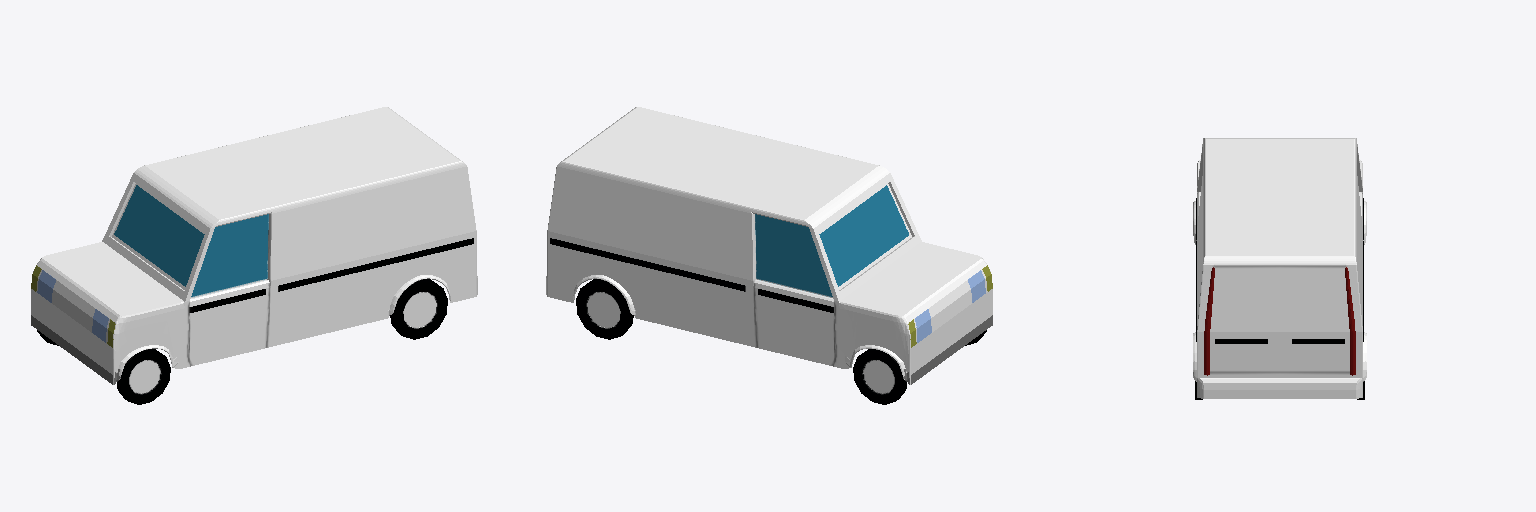
3 renders of one model, left to right at view 1: azimuth 30°, elevation 25°; view 2: azimuth 150°, elevation 25°; view 3: azimuth 270°, elevation 25°, orthographic.
Visible parts, largest first — view 1: Cube.004, Cube.003, Plane; view 2: Cube.004, Cube.003, Plane; view 3: Cube.004, Cube.003_Cube.002, Plane.
Part boxes in pixels (x1,y1,x2,y2): Cube.004: (31,107,477,384); Cube.003: (37,279,447,404); Plane: (189,238,473,312); Cube.004: (546,107,992,384); Cube.003: (576,279,986,404); Plane: (550,238,834,312); Cube.004: (1193,138,1366,398); Cube.003_Cube.002: (1204,267,1355,375); Plane: (1196,198,1363,343).
Size of the model in its own units: 7.2 by 3.04 by 2.95.
1 materials, 1 textured.